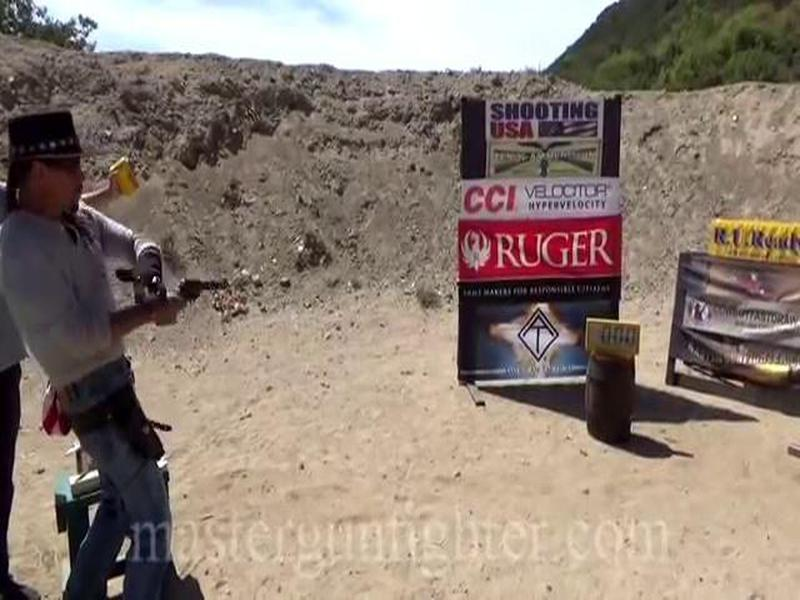Revolver: (143, 266, 237, 335)
